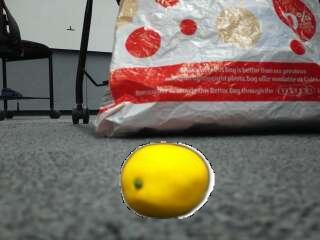lemon: (121, 144, 207, 219)
